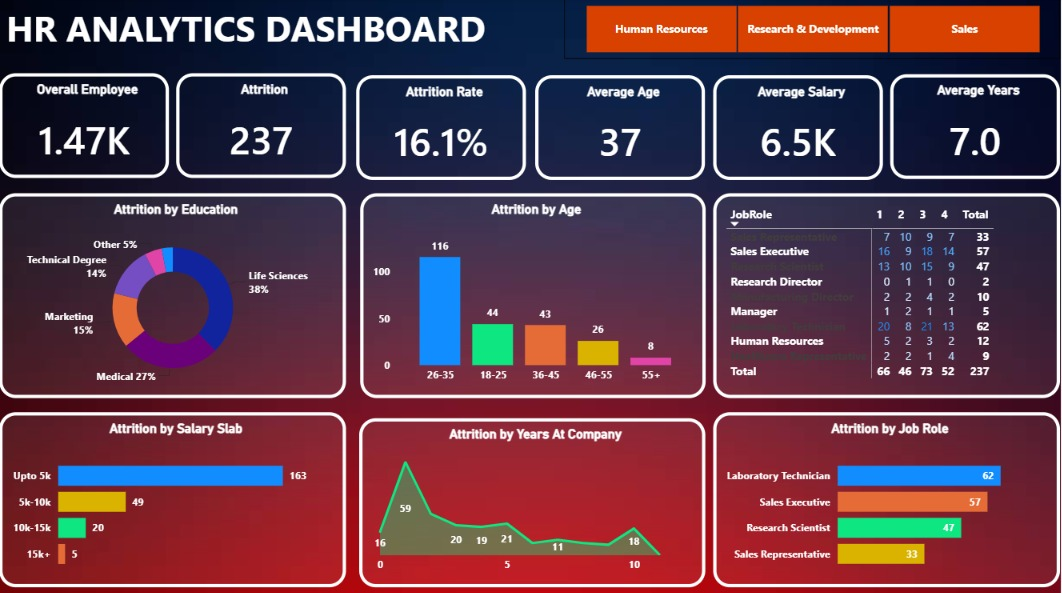

Layout of this report page (visuals, bound fields, positions):
{"tool":"powerbi","page":{"name":"Page 1","canvas":[1280,720],"ordinal":0},"visuals":[{"type":"cardVisual","title":"Attrition","fields":{"Data":["Sum(HR_Analytics.AttritionCount)"]},"box":[213.5,89.8,205.1,126.7],"z":0},{"type":"cardVisual","title":"Overall Employee","fields":{"Data":["CountNonNull(HR_Analytics.EmpID)"]},"box":[0,89.8,205.1,126.7],"z":1000},{"type":"cardVisual","title":"Attrition Rate","fields":{"Data":["HR_Analytics.AttritionRate"]},"box":[430.7,92.2,205.1,126.7],"z":2000},{"type":"cardVisual","title":"Average Age","fields":{"Data":["Avg(HR_Analytics.Age)"]},"box":[646.7,92.2,205.1,126.7],"z":3000},{"type":"cardVisual","title":"Average Salary","fields":{"Data":["Avg(HR_Analytics.MonthlyIncome)"]},"box":[861.4,92.2,205.1,126.7],"z":4000},{"type":"cardVisual","title":"Average Years","fields":{"Data":["Avg(HR_Analytics.YearsAtCompany)"]},"box":[1074.9,91,205.1,126.7],"z":5000},{"type":"columnChart","title":"Attrition by Age","fields":{"Category":["HR_Analytics.AgeGroup"],"Y":["Sum(HR_Analytics.AttritionCount)"]},"box":[435,234.6,417.2,247],"z":6000},{"type":"donutChart","title":"Attrition by Education","fields":{"Category":["HR_Analytics.EducationField"],"Y":["Sum(HR_Analytics.AttritionCount)"]},"box":[0,234.6,418.5,247],"z":7000},{"type":"pivotTable","fields":{"Rows":["HR_Analytics.JobRole"],"Columns":["HR_Analytics.JobSatisfaction"],"Values":["Sum(HR_Analytics.AttritionCount)"]},"box":[861.4,234,418.6,247.3],"z":8000},{"type":"clusteredBarChart","title":"Attrition by Salary Slab","fields":{"Category":["HR_Analytics.SalarySlab"],"Y":["Sum(HR_Analytics.AttritionCount)"]},"box":[0,498.1,418.5,211.3],"z":9000},{"type":"stackedAreaChart","title":"Attrition by Years At Company","fields":{"Y":["Sum(HR_Analytics.AttritionCount)"],"Category":["HR_Analytics.YearsAtCompany"]},"box":[434.3,505.5,417.4,203.9],"z":10000},{"type":"barChart","title":"Attrition by Job Role","fields":{"Category":["HR_Analytics.JobRole"],"Y":["Sum(HR_Analytics.AttritionCount)"]},"box":[861.4,498.3,418.6,211.1],"z":11000},{"type":"textbox","box":[3.6,0,725.1,89.3],"z":12000},{"type":"slicer","fields":{"Values":["HR_Analytics.Department"]},"box":[681.6,0,598.4,72.4],"z":13000}]}

Visuals, with their boxes in screenshot pixels (x1, y1, x2, y2), scaled from the page's 1280x720 canvas onto the 1062x593 screenshot:
"Attrition" cardVisual: (177,74,347,178)
"Overall Employee" cardVisual: (0,74,170,178)
"Attrition Rate" cardVisual: (357,76,528,180)
"Average Age" cardVisual: (537,76,707,180)
"Average Salary" cardVisual: (715,76,885,180)
"Average Years" cardVisual: (892,75,1061,179)
"Attrition by Age" columnChart: (361,193,707,397)
"Attrition by Education" donutChart: (0,193,347,397)
pivotTable - HR_Analytics.JobRole x HR_Analytics.JobSatisfaction: (715,193,1061,396)
"Attrition by Salary Slab" clusteredBarChart: (0,410,347,584)
"Attrition by Years At Company" stackedAreaChart: (360,416,707,584)
"Attrition by Job Role" barChart: (715,410,1061,584)
textbox: (3,0,605,74)
slicer - HR_Analytics.Department: (566,0,1061,60)
